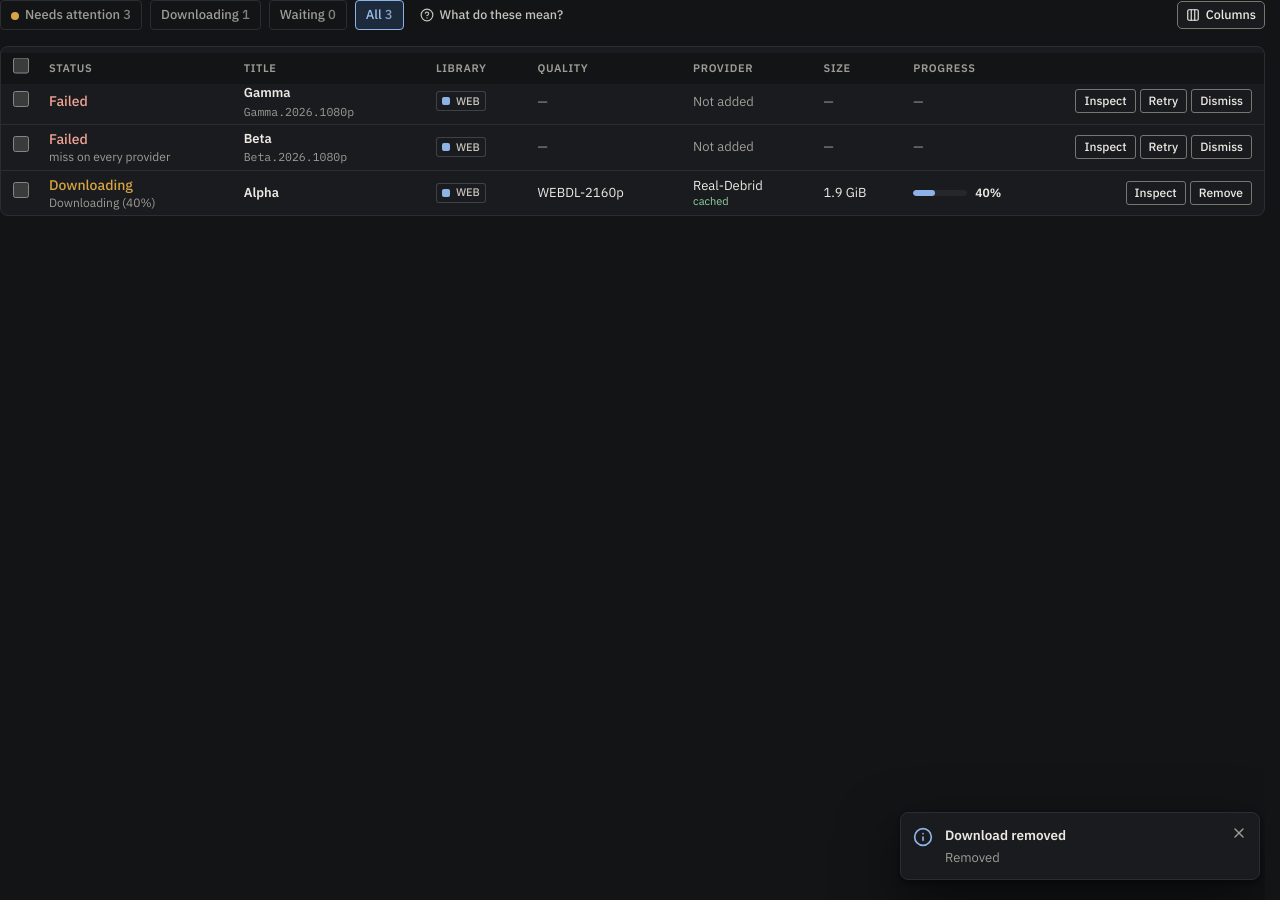
Test: removes the selected downloads one by one and names the one that was not removed
This screenshot has width=1280, height=900.
Click the checkbox named "Select all 3 shown" at (21, 66), box [13,58,29,74]
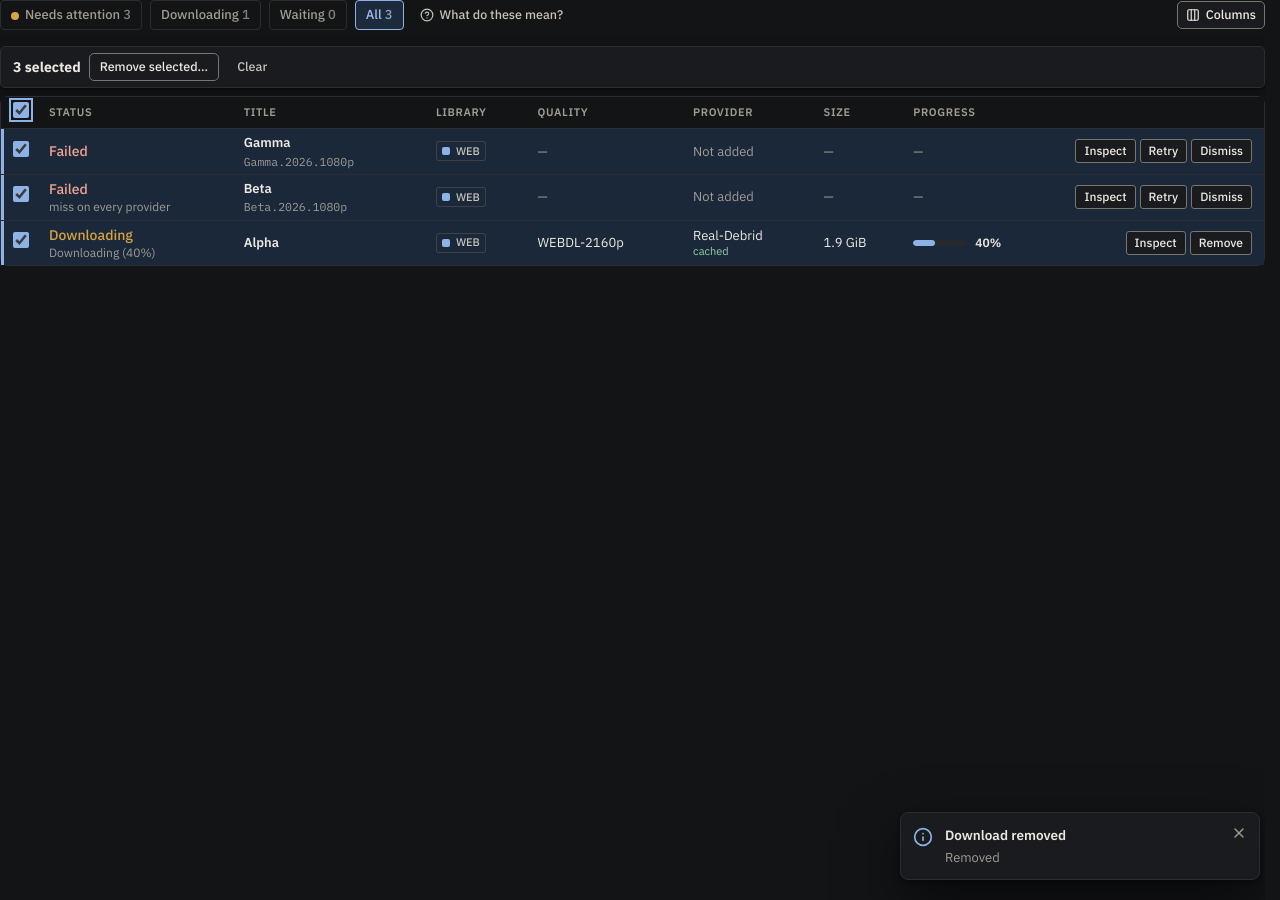
Expected: the element with test id "selection-line" shows "3 selected", [0,46,1265,88]
Click the button "Remove selected…" at (154, 66), box [89,52,219,80]
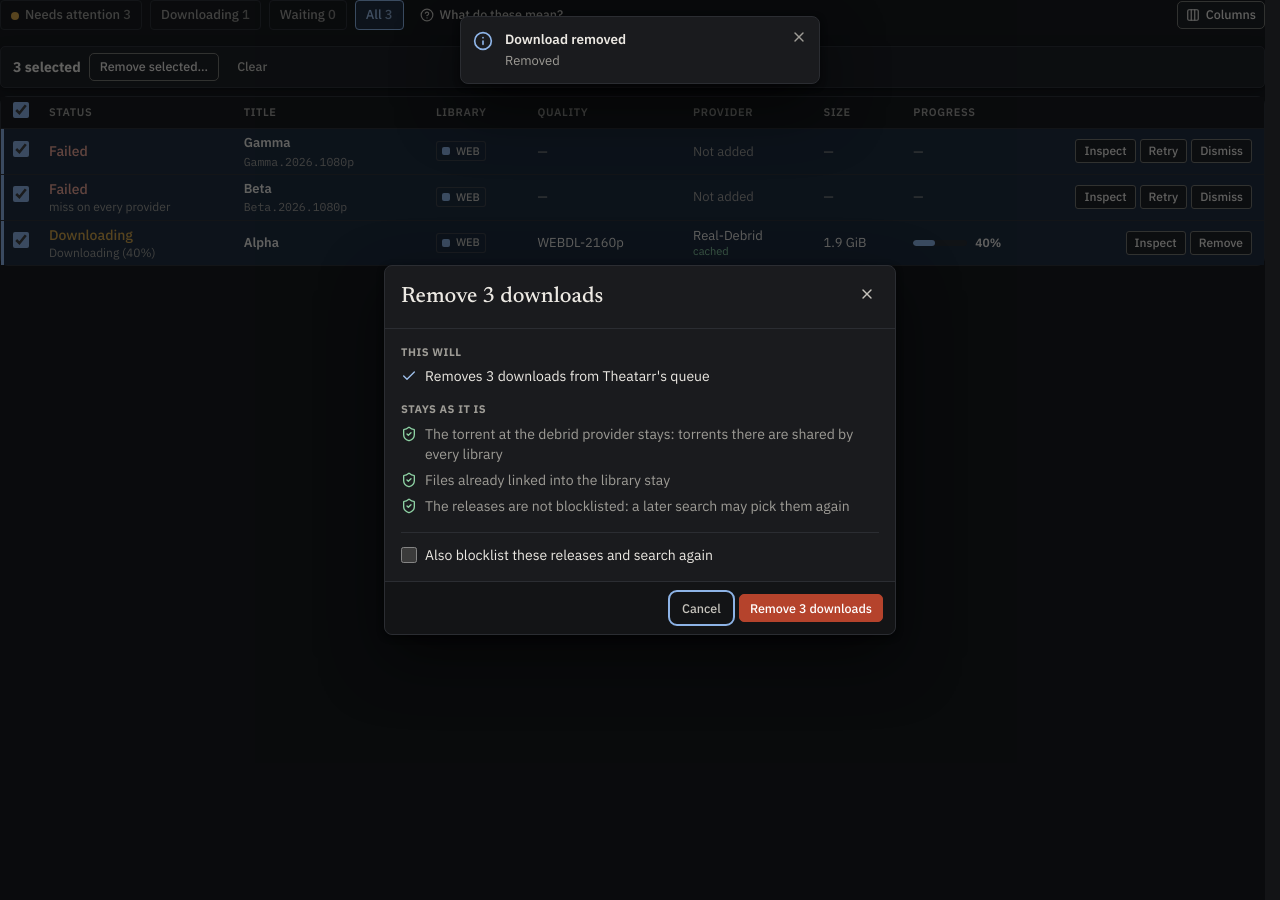
Expected: the list item "Removes 3 downloads from Theatarr's queue" is shown, [401,367,710,385]
Expected: the list item "torrent at the debrid provider stays" is shown, [425,425,853,463]
Click the button "Remove 3 downloads" at (811, 608), box [739,594,883,622]
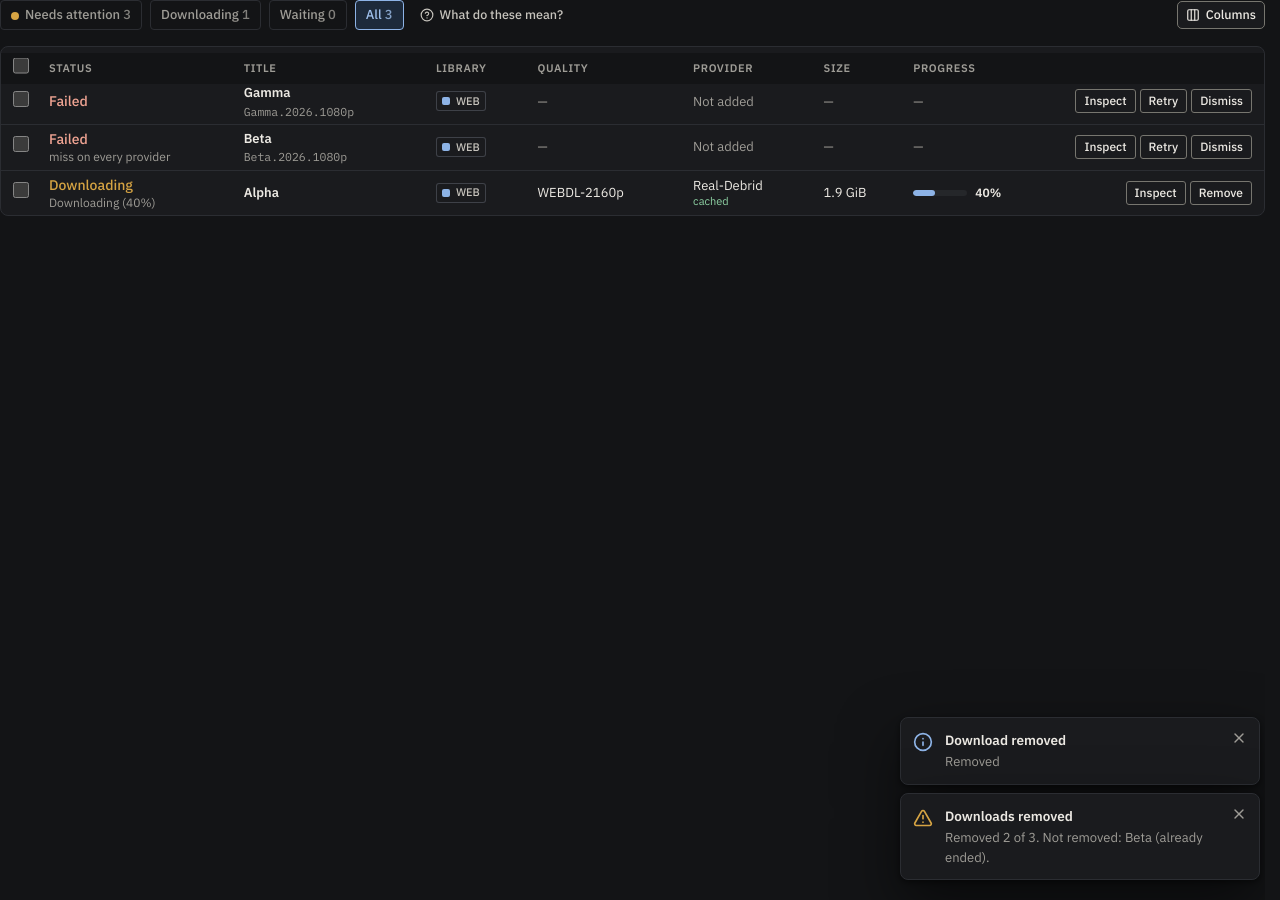
Expected: the text "Removed 2 of 3. Not removed: Beta (already ended)." is shown, [945,828,1219,867]
